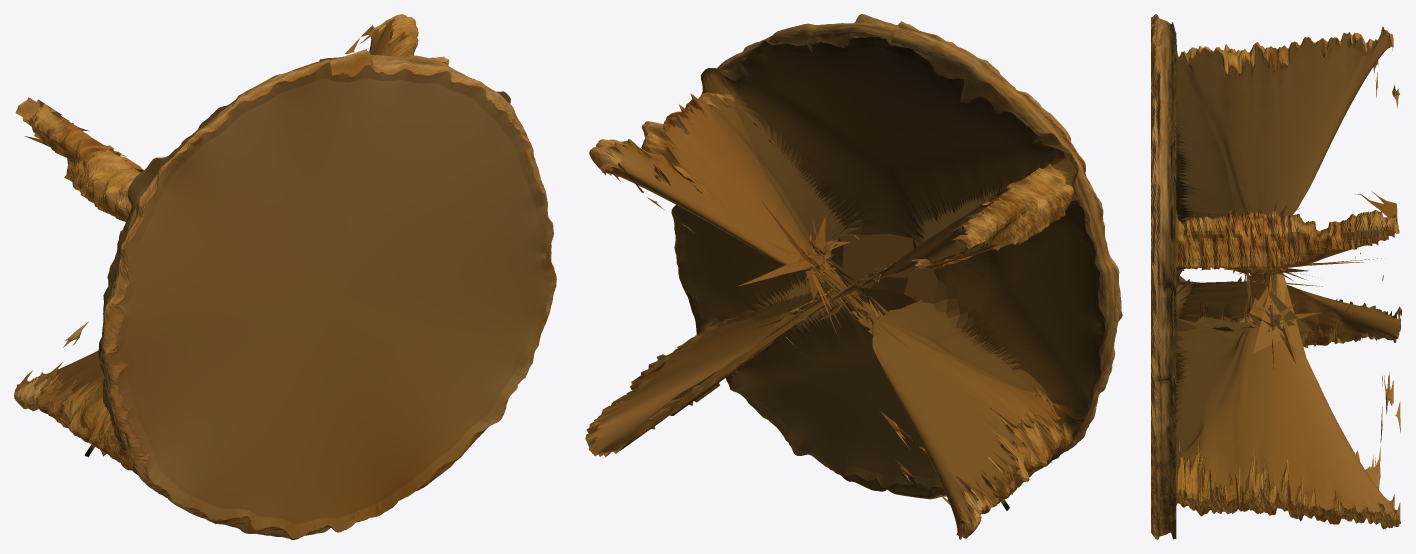
Rendered from mesh_inpaint.glb.
3 views of the same model, side by side, from view 1: azimuth 30°, elevation 25°; view 2: azimuth 150°, elevation 25°; view 3: azimuth 270°, elevation 25° (orthographic).
Parts seen in each view (by area): view 1: fill, ipn; view 2: fill, ipn; view 3: fill, ipn.
Part boxes in pixels (<box>): fill: <box>14,15,555,538</box>; ipn: <box>14,14,556,539</box>; fill: <box>585,36,1104,538</box>; ipn: <box>586,14,1122,539</box>; fill: <box>1174,26,1401,521</box>; ipn: <box>1151,14,1401,539</box>.
Size of the model in its own units: 1.88 by 1.88 by 0.9012.
Materials: 2 (1 with a texture image).
